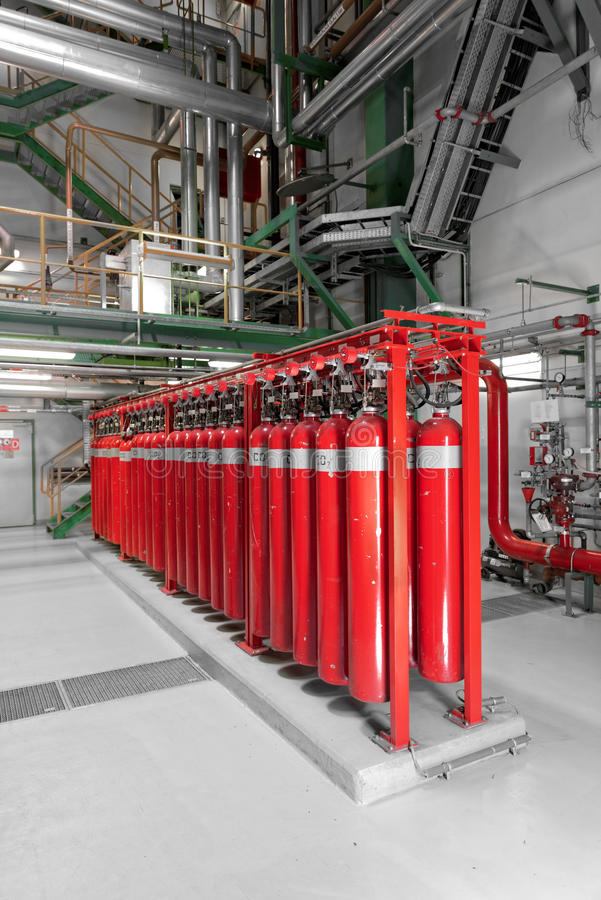fire_extinguisher: (86, 304, 511, 755), (415, 406, 463, 684)
